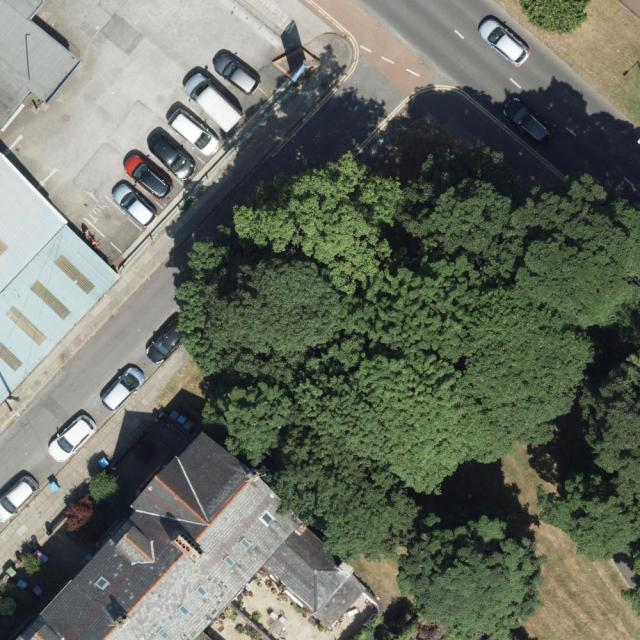roof: (6, 428, 365, 640), (0, 155, 121, 412), (0, 0, 84, 131)
skylight: (258, 507, 277, 528), (93, 574, 113, 591), (221, 551, 236, 570), (194, 583, 209, 598), (178, 602, 191, 617), (239, 535, 251, 550), (157, 627, 171, 639)
